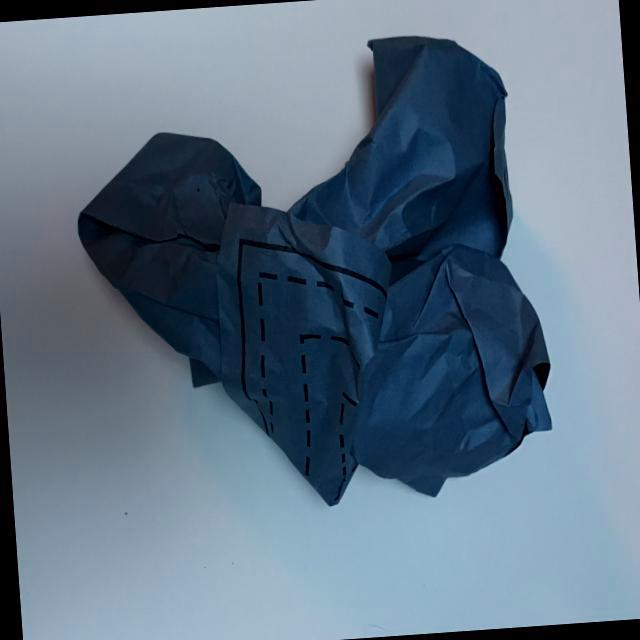paper: (55, 21, 560, 524)
